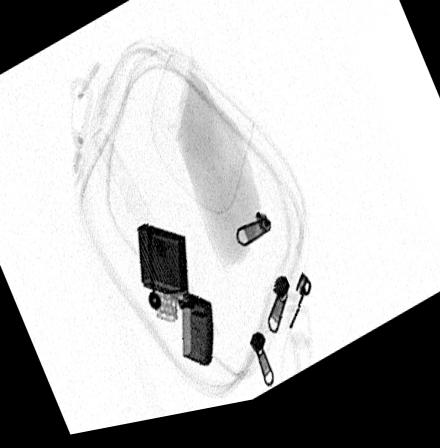Lighter: (136, 228, 213, 373)
